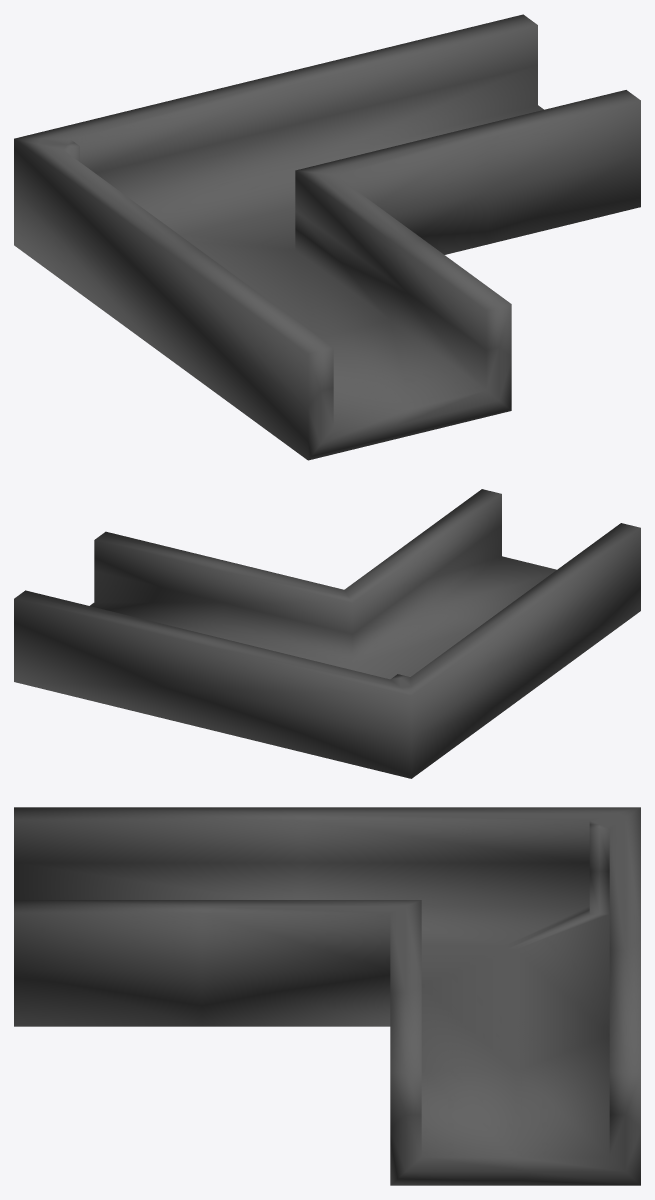
3 renders of one model, top to bottom at view 1: azimuth 30°, elevation 25°; view 2: azimuth 150°, elevation 25°; view 3: azimuth 270°, elevation 25°, orthographic. The views are drawn at different scales.
Parts seen in each view (by area): view 1: defaultobject; view 2: defaultobject; view 3: defaultobject.
Part boxes in pixels (bbox=[...]): defaultobject: bbox=[14, 14, 640, 460]; defaultobject: bbox=[14, 489, 640, 778]; defaultobject: bbox=[14, 807, 640, 1185].
Bounding box in the file's own units: 0.625 × 0.125 × 0.625.
Materials: 1 (1 with a texture image).
